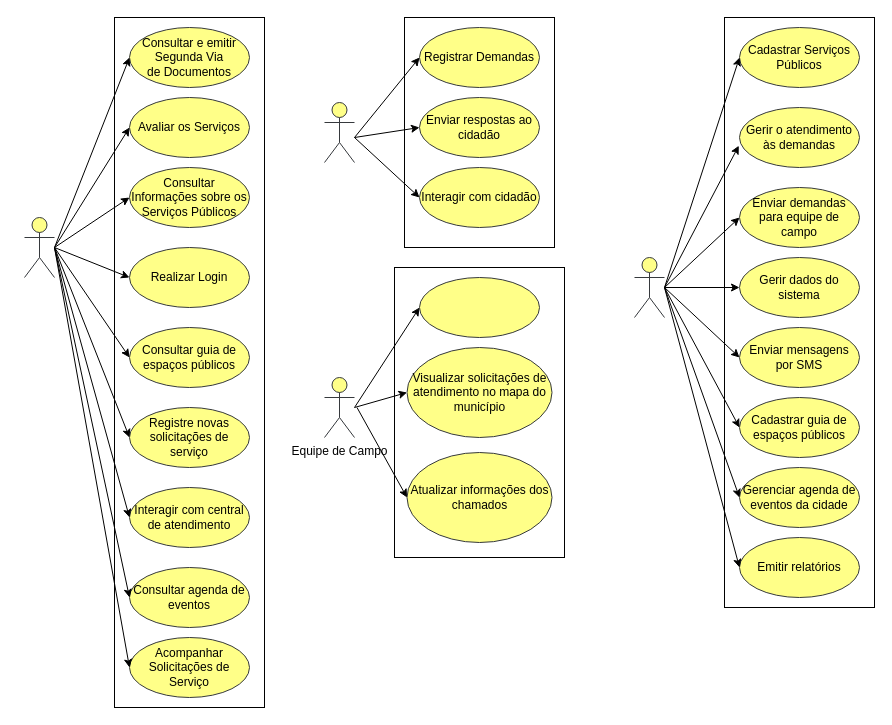
The diagram is 892 pixels wide and 725 high, and some of its shapes have lost their labels. Here are the shapes that lost their labels. From the top down, the box of each, then its label:
(324, 102, 354, 162): Central Atendimento
(24, 216, 54, 278): Cidadão
(418, 276, 540, 338): Consultar Chamados em Aberto
(634, 256, 664, 318): Órgão Municipal
